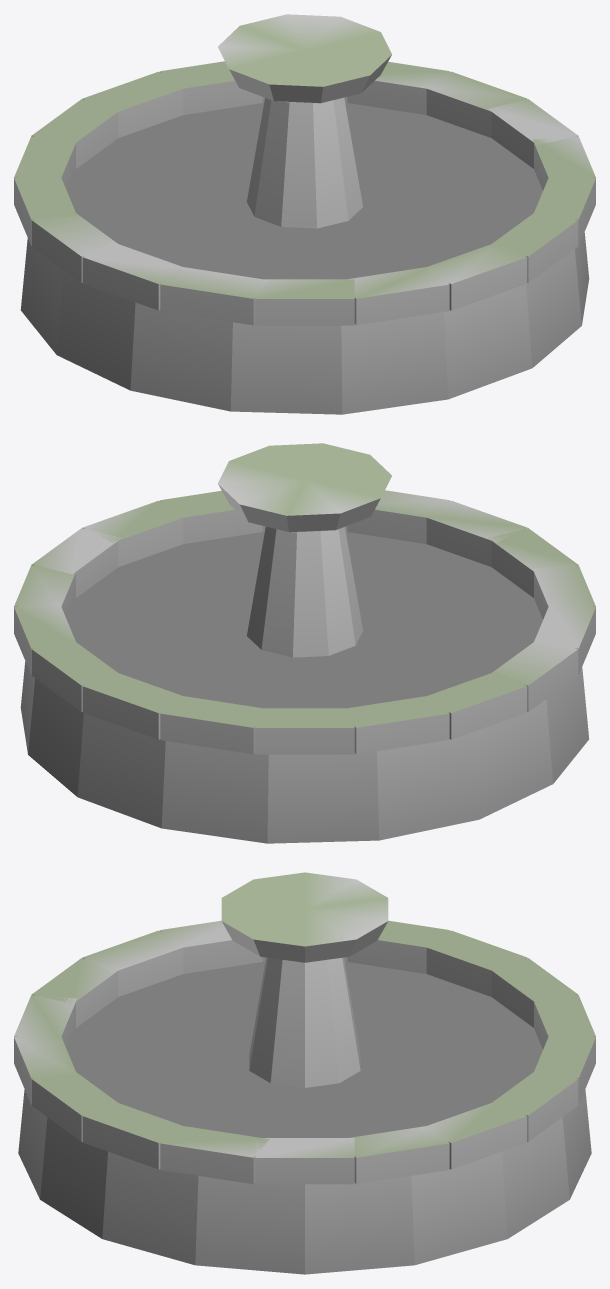
File: fountain.glb
3 renders of one model, top to bottom at view 1: azimuth 30°, elevation 25°; view 2: azimuth 150°, elevation 25°; view 3: azimuth 270°, elevation 25°, orthographic.
Parts seen in each view (by area): view 1: fountain; view 2: fountain; view 3: fountain.
Part boxes in pixels (x1,y1,x2,y2): fountain: (14,14,595,414); fountain: (14,443,595,843); fountain: (14,872,595,1274).
Size of the model in its own units: 1.96 by 0.92 by 1.99.
